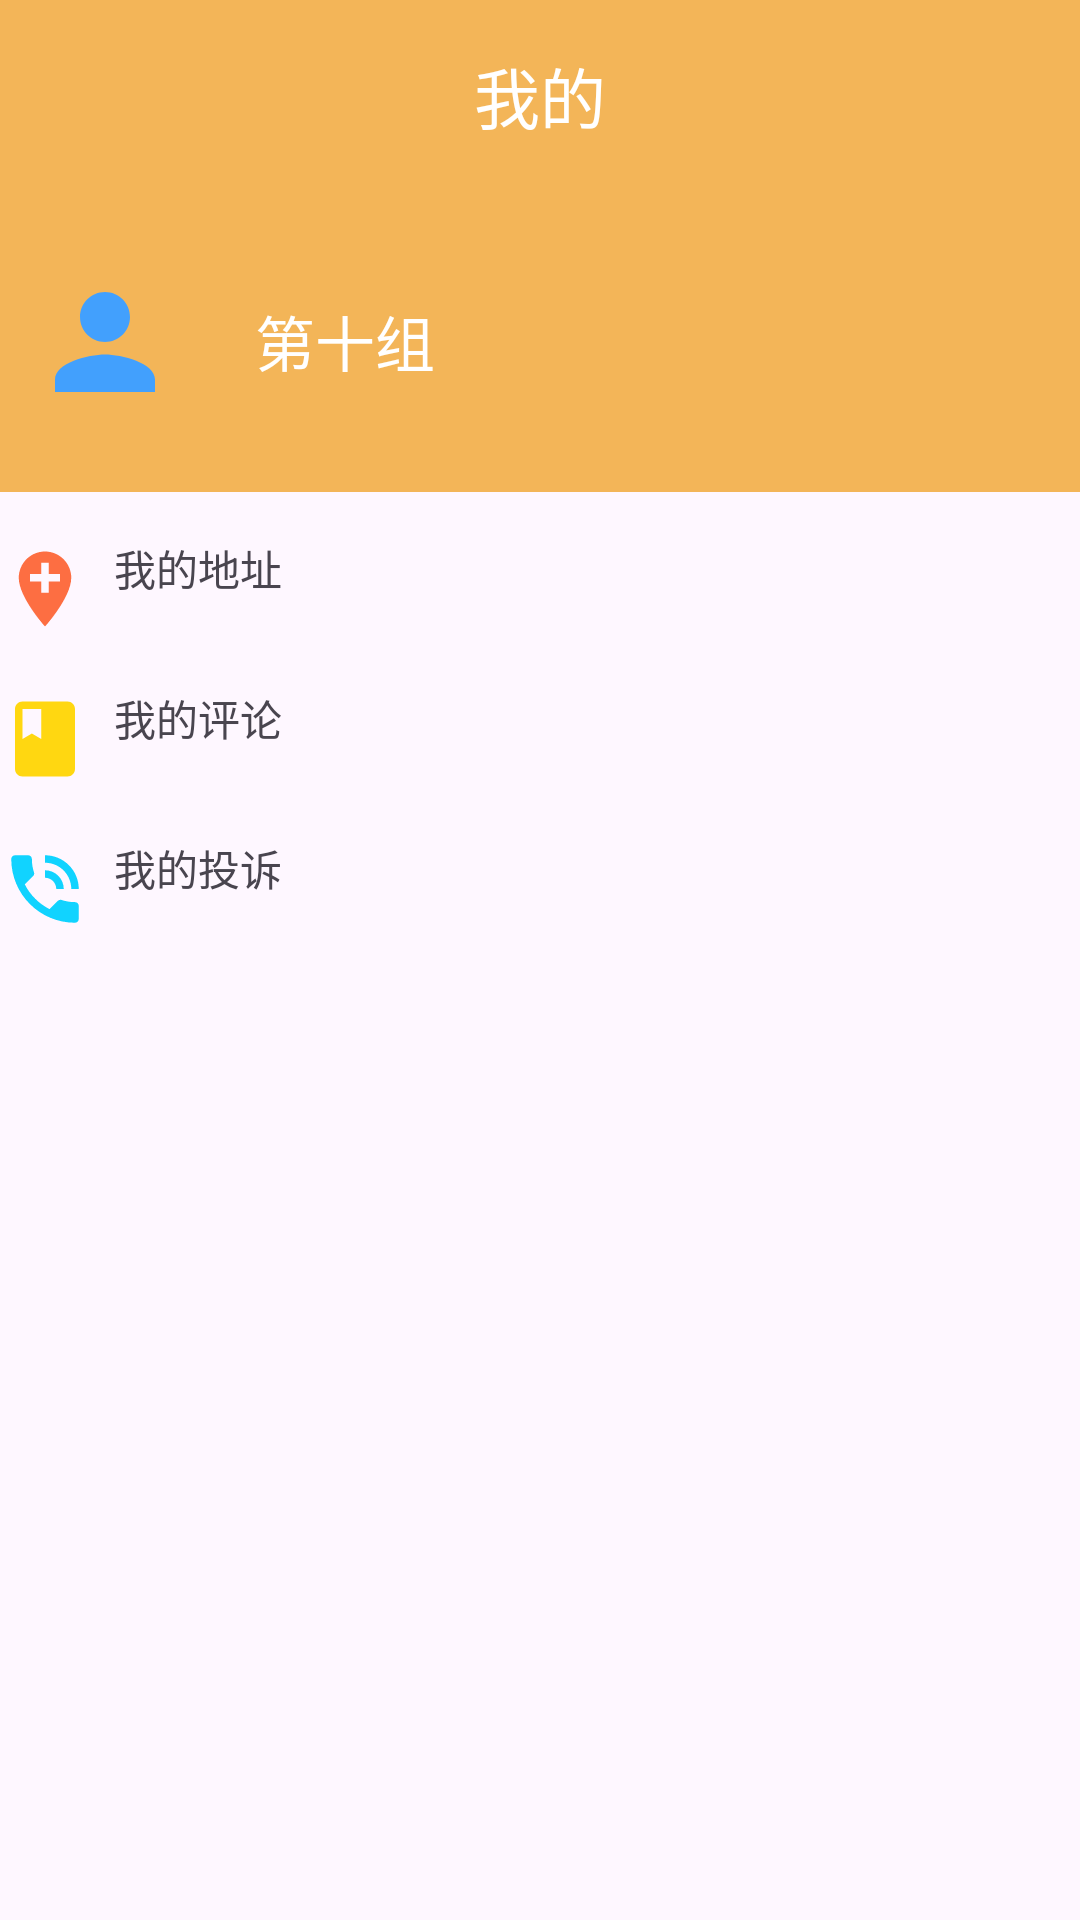

Named icons in this screenshot (1080px x 1920px) and their centers, (x,y):
mine: (105,342)
